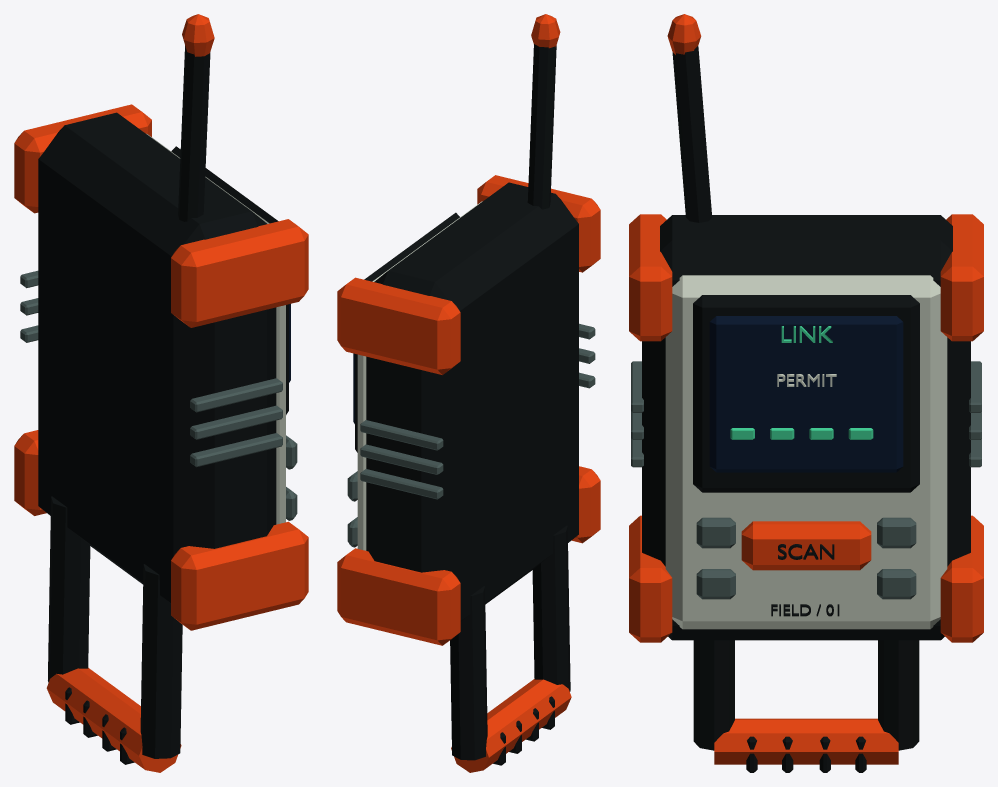
Rendered from SM_MP_Flow_Communicator.fbx.
3 renders of one model, left to right at view 1: azimuth 30°, elevation 25°; view 2: azimuth 150°, elevation 25°; view 3: azimuth 270°, elevation 25°, orthographic. The views are drawn at different scales.
Visible parts, largest first — view 1: SM_MP_Flow_Communicator; view 2: SM_MP_Flow_Communicator; view 3: SM_MP_Flow_Communicator.
Boxes of the visible parts, x1=… form: SM_MP_Flow_Communicator: x1=14, y1=14, x2=308, y2=772; SM_MP_Flow_Communicator: x1=337, y1=14, x2=600, y2=772; SM_MP_Flow_Communicator: x1=629, y1=14, x2=983, y2=772.
Bounding box in the file's own units: 9.9 × 18.9 × 44.75.
Materials: 1 (1 with a texture image).
